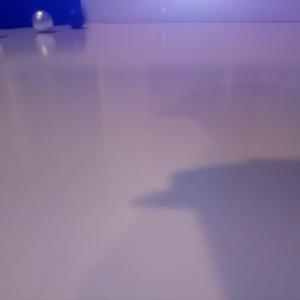alive_ball: (32, 10, 53, 32)
dead_ball: (67, 10, 85, 29)
